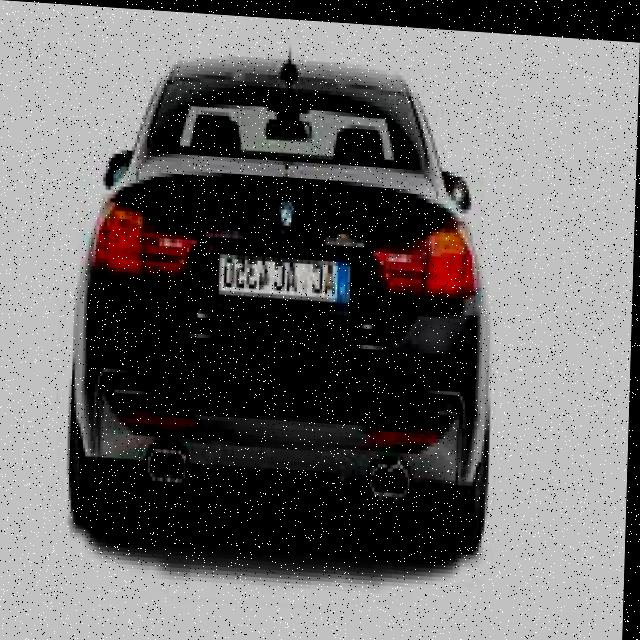car: (43, 31, 539, 571)
